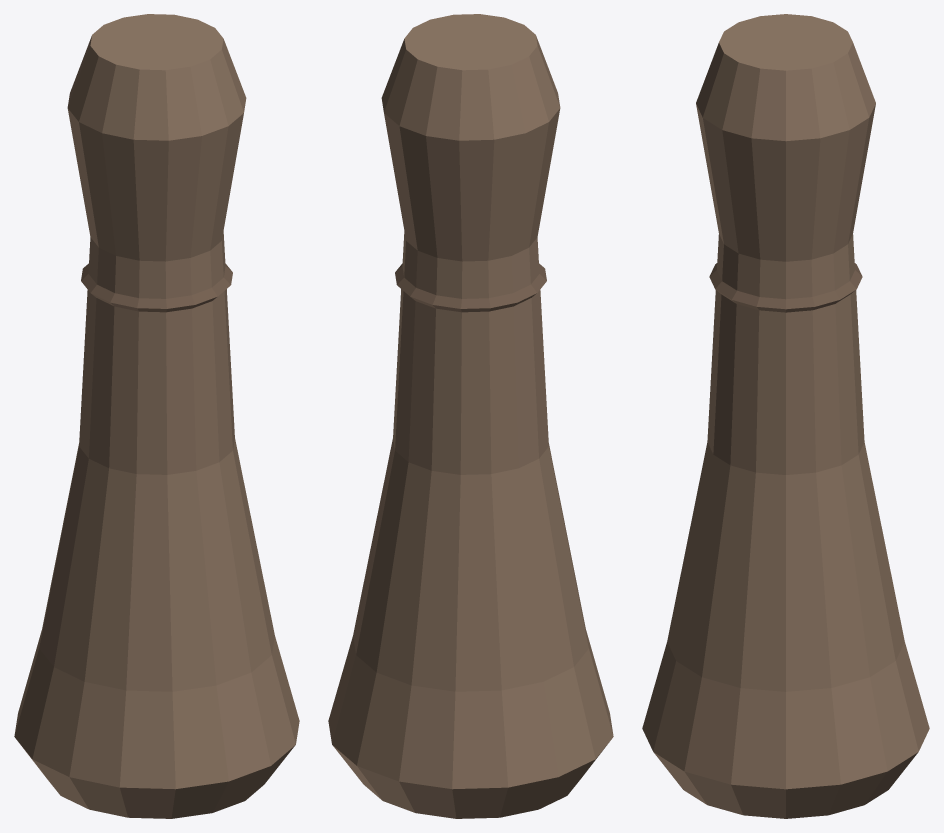
Rendered from pestle.glb.
The picture shows the model from 3 angles, left to right: view 1: azimuth 30°, elevation 25°; view 2: azimuth 150°, elevation 25°; view 3: azimuth 270°, elevation 25°; orthographic projection.
Parts seen in each view (by area): view 1: PestleBody, PestleGripBand; view 2: PestleBody, PestleGripBand; view 3: PestleBody, PestleGripBand.
Boxes of the visible parts, bbox=[...] form: PestleBody: bbox=[14, 14, 299, 818]; PestleGripBand: bbox=[81, 263, 232, 312]; PestleBody: bbox=[328, 14, 613, 818]; PestleGripBand: bbox=[395, 263, 546, 312]; PestleBody: bbox=[642, 14, 929, 818]; PestleGripBand: bbox=[709, 263, 862, 312].
Bounding box in the file's own units: 0.15 × 0.42 × 0.15.
